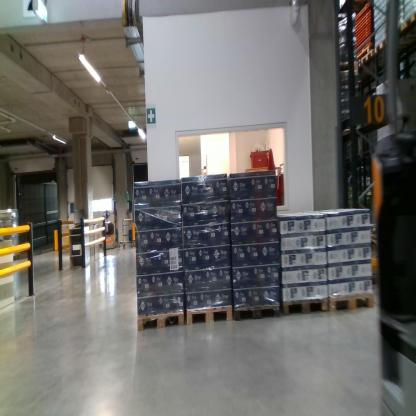forklift: (378, 1, 414, 415)
pallet: (131, 308, 189, 339), (282, 294, 331, 324), (186, 299, 233, 330), (232, 299, 277, 328), (326, 293, 377, 317), (373, 32, 395, 61), (395, 13, 416, 33), (362, 49, 375, 67)
pallet_truck: (98, 192, 120, 250)
